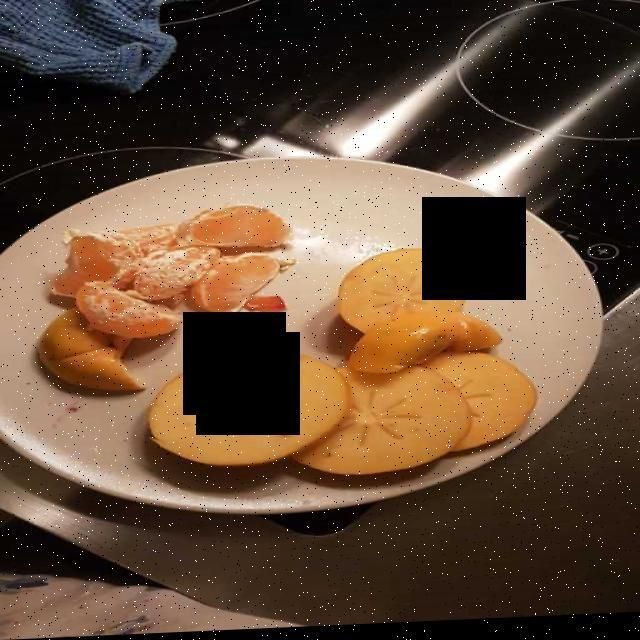kaki: (153, 255, 524, 473)
mandarine: (41, 211, 291, 388)
